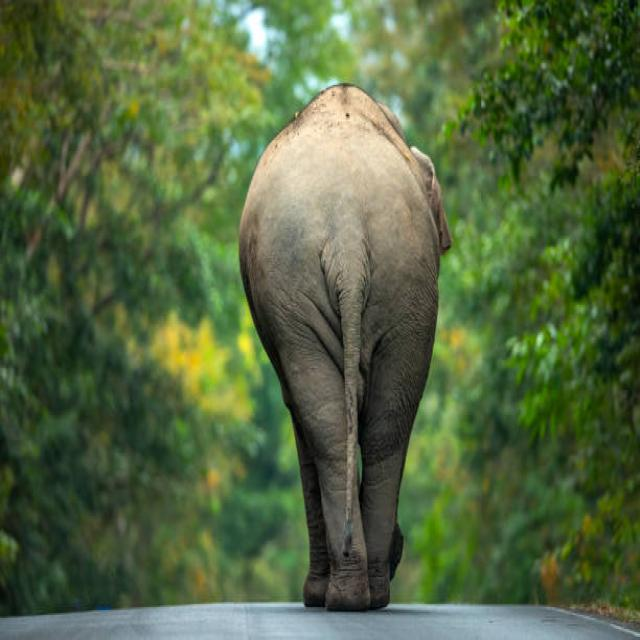Elephant: (232, 69, 456, 622)
